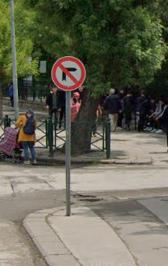rightturnsareforbidden: (52, 56, 86, 91)
